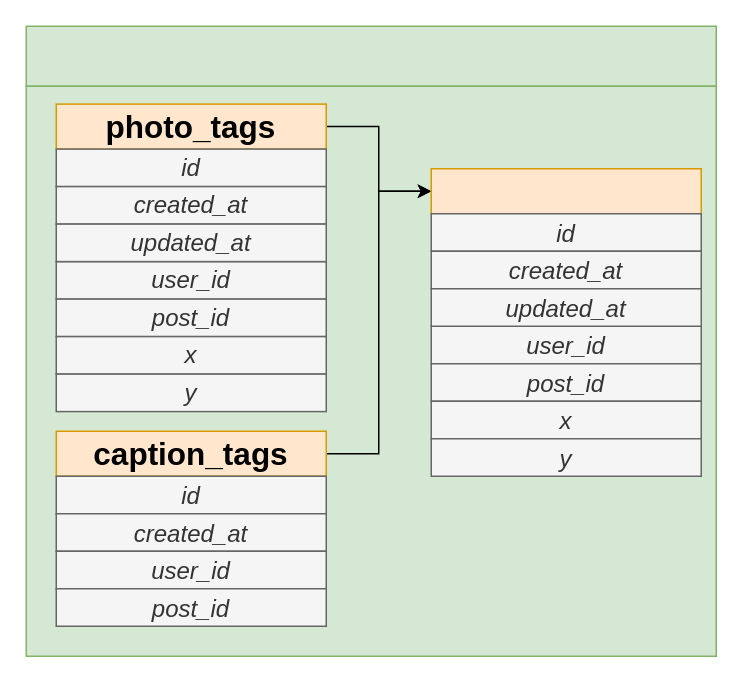
Some shapes in this 743 by 683 pixel diagram are drawn without their labels. The box of each missing label's shape, as (x1, y1, x2, y2) in pixels:
instagram: (25, 25, 716, 86)
tags: (430, 167, 701, 214)
